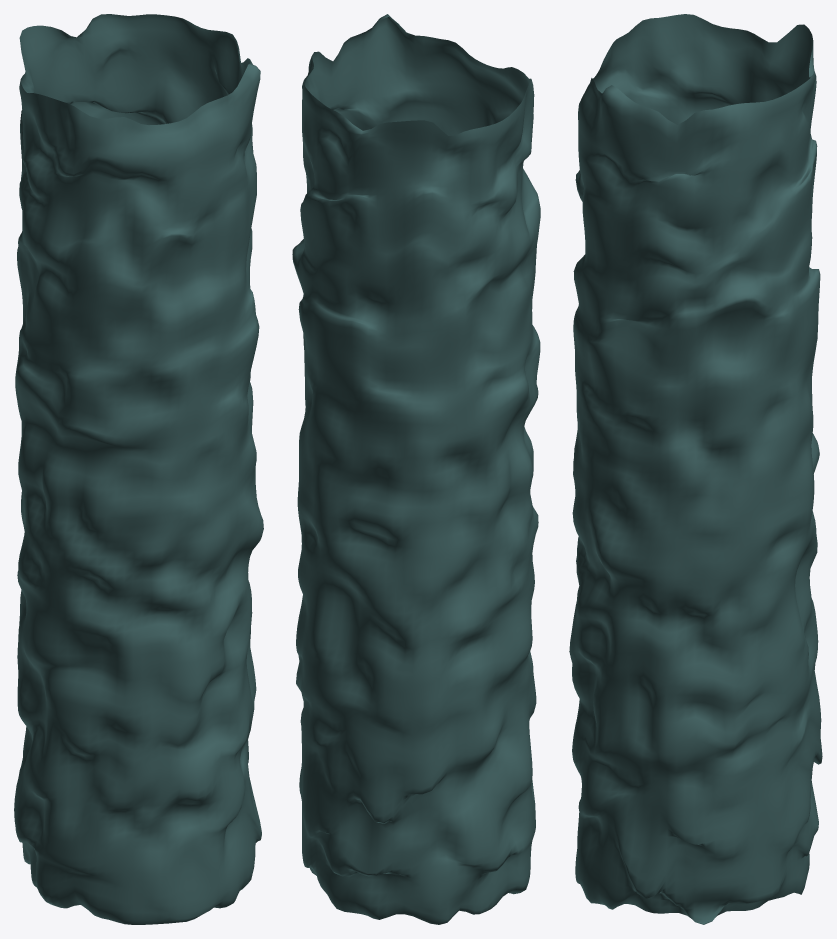
Rendered from agua.fbx.
3 views of the same model, side by side, from view 1: azimuth 30°, elevation 25°; view 2: azimuth 150°, elevation 25°; view 3: azimuth 270°, elevation 25° (orthographic).
Visible parts, largest first — view 1: pCylinder1; view 2: pCylinder1; view 3: pCylinder1.
Part boxes in pixels (left/top/right/bottom): pCylinder1: left=14, top=14, right=263, bottom=924; pCylinder1: left=292, top=14, right=540, bottom=924; pCylinder1: left=569, top=14, right=822, bottom=924.
Bounding box in the file's own units: 2.47 × 8.98 × 2.47.
